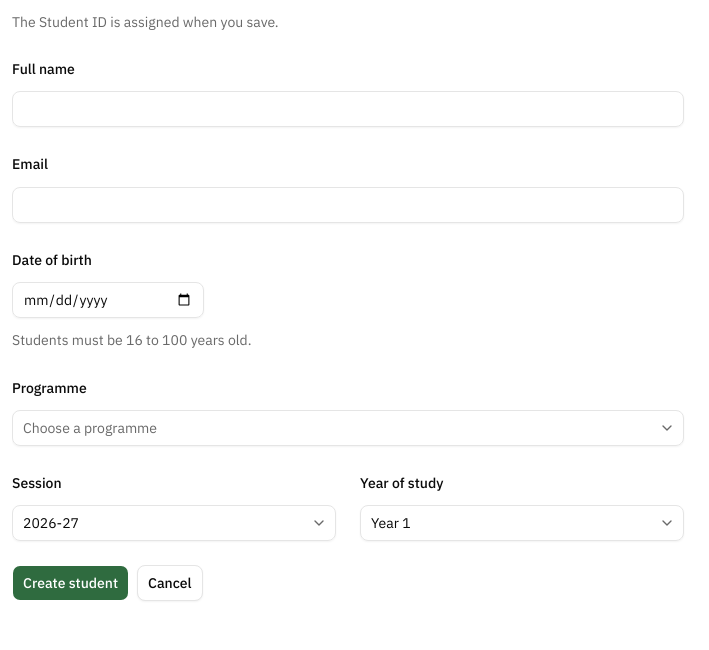
Test: new student form: saving › puts a server field error on the field
Type "Ayesha Rahman" into the field labelled "Full name".
click(348, 109); type("Ayesha Rahman")  # box [12,91,684,127]
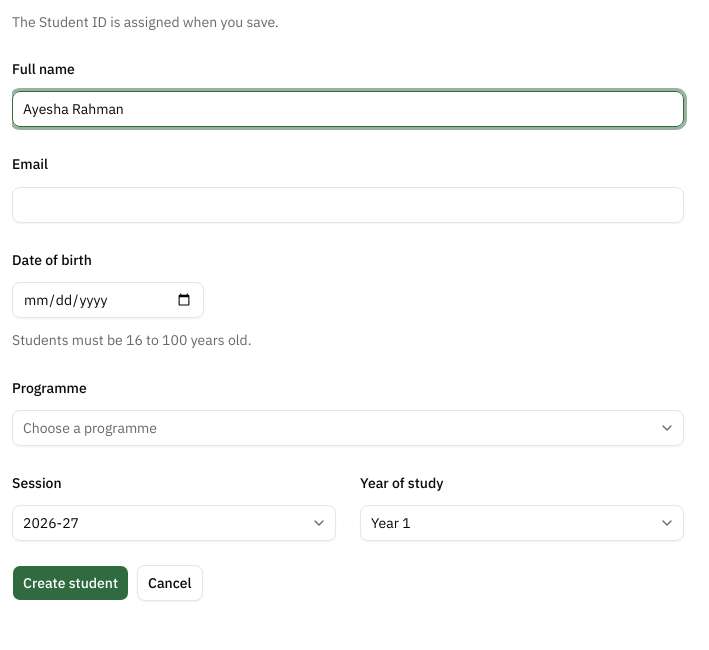
Type "Ayesha.New@Example.edu" into the field labelled "Email".
click(348, 204); type("Ayesha.New@Example.edu")  # box [12,186,684,222]
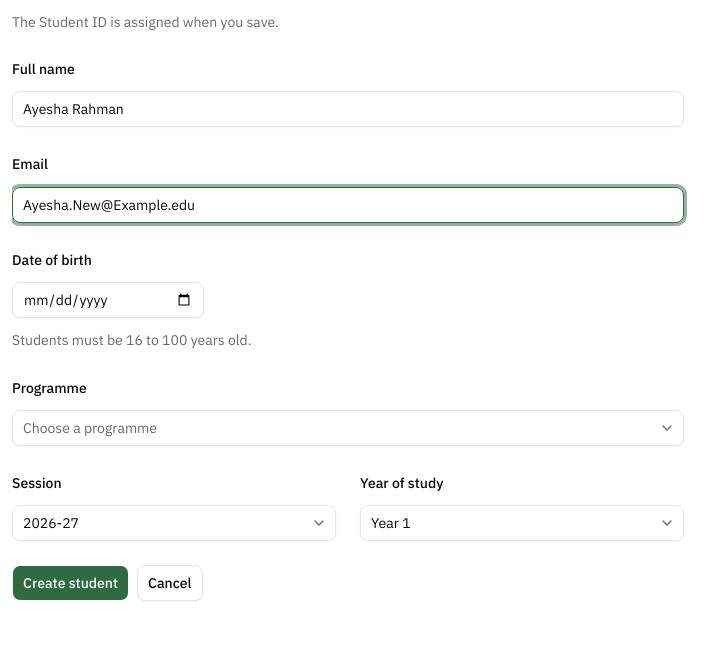
Type "2005-03-14" into the date field labelled "Date of birth".
click(108, 300); type("2005-03-14")  # box [12,282,204,318]
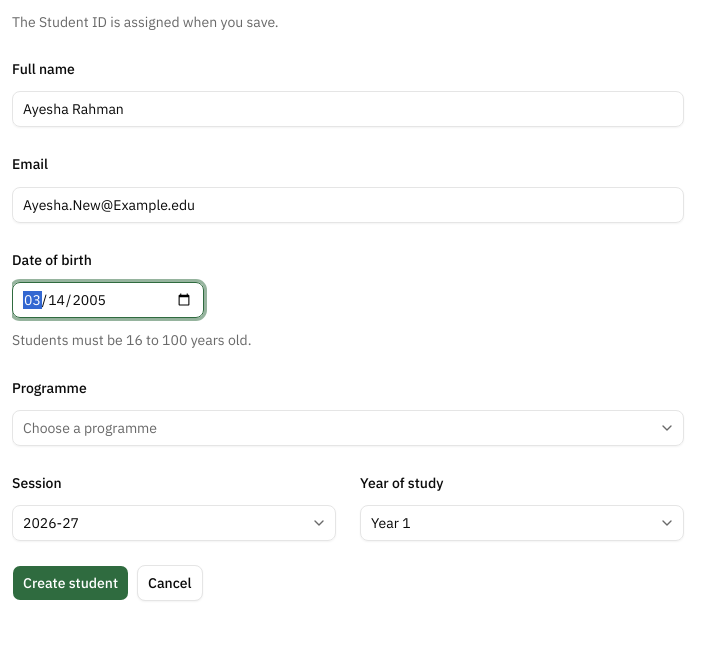
Click the dropdown labelled "programme".
click(90, 428)  # box [12,410,684,446]
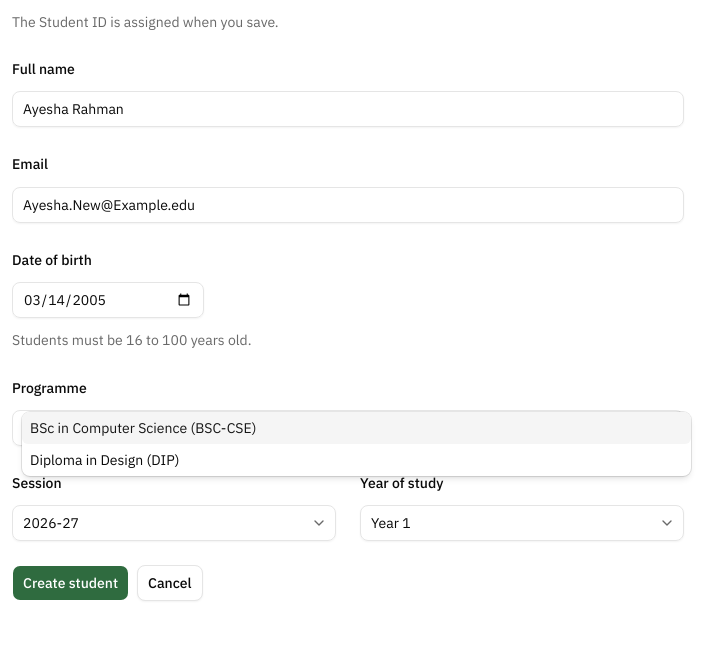
Click the option "BSc in Computer Science (BSC-CSE)".
click(109, 428)  # box [22,412,691,444]
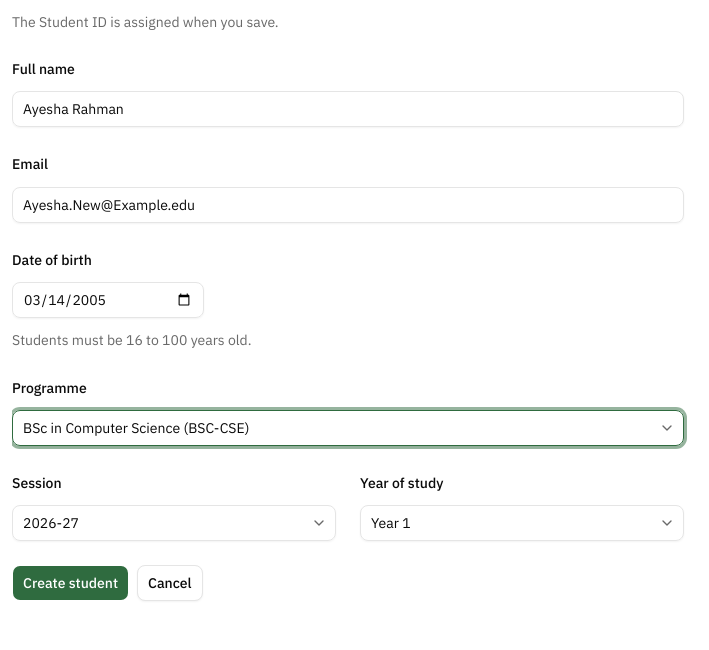
Click the button "Create student".
click(70, 583)  # box [12,565,129,601]
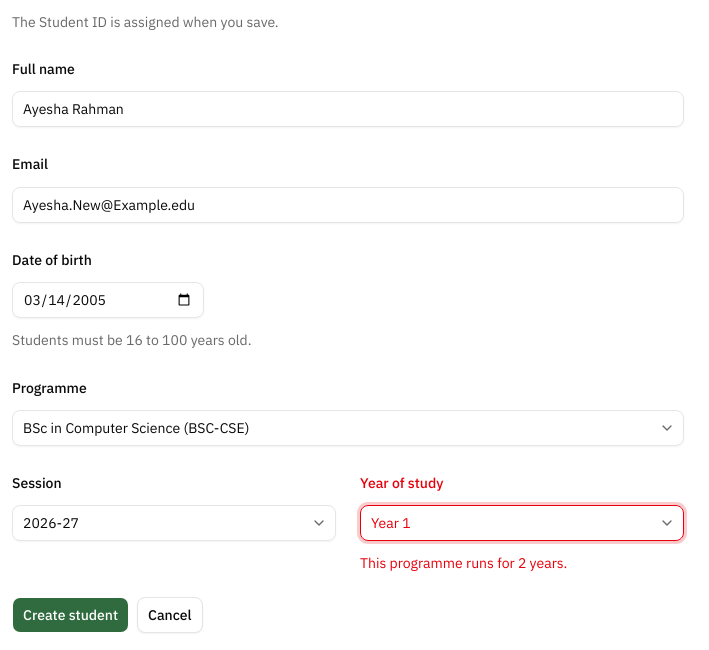
Check: the text "This programme runs for 2 years." is shown, box [360,554,567,572]
